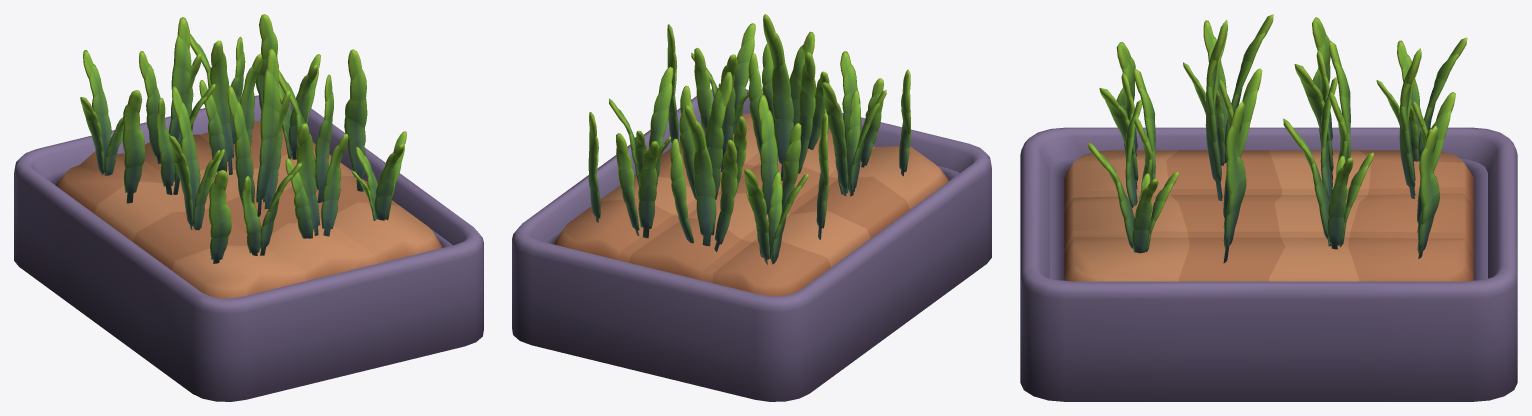
Rendered from Farm_01.fbx.
The picture shows the model from 3 angles, left to right: view 1: azimuth 30°, elevation 25°; view 2: azimuth 150°, elevation 25°; view 3: azimuth 270°, elevation 25°; orthographic projection. The views are drawn at different scales.
Parts seen in each view (by area): view 1: Farm_01; view 2: Farm_01; view 3: Farm_01.
Boxes of the visible parts, x1,y1,x2,y2 form: Farm_01: (14, 14, 483, 401); Farm_01: (512, 14, 991, 401); Farm_01: (1020, 14, 1517, 401).
Bounding box in the file's own units: 348 × 300 × 447.
